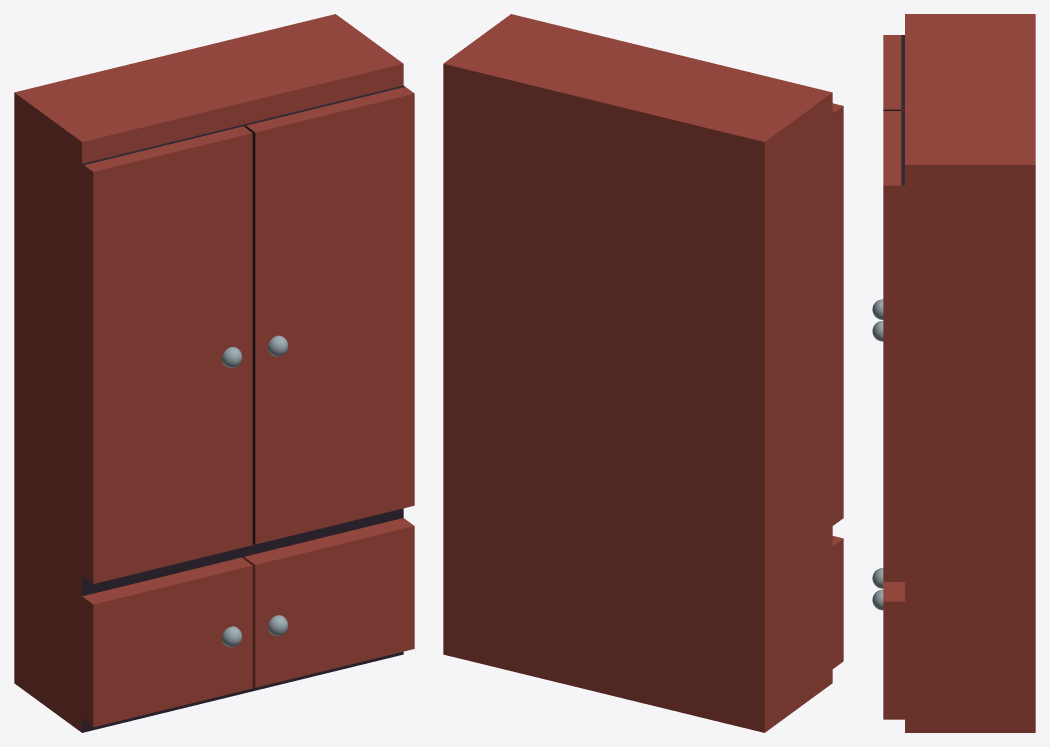
The model's file is Worderobe.fbx.
The picture shows the model from 3 angles, left to right: view 1: azimuth 30°, elevation 25°; view 2: azimuth 150°, elevation 25°; view 3: azimuth 270°, elevation 25°; orthographic projection. The views are drawn at different scales.
Parts seen in each view (by area): view 1: Sphere.010; view 2: Sphere.010; view 3: Sphere.010.
Boxes of the visible parts, x1=… form: Sphere.010: x1=14, y1=14, x2=414, y2=732; Sphere.010: x1=443, y1=14, x2=843, y2=732; Sphere.010: x1=872, y1=14, x2=1035, y2=732.
Size of the model in its own units: 180 by 316 by 82.17.
